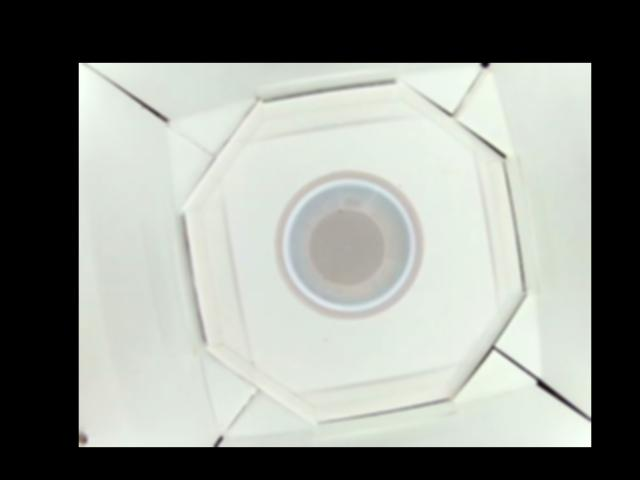Cup: (274, 169, 425, 319)
